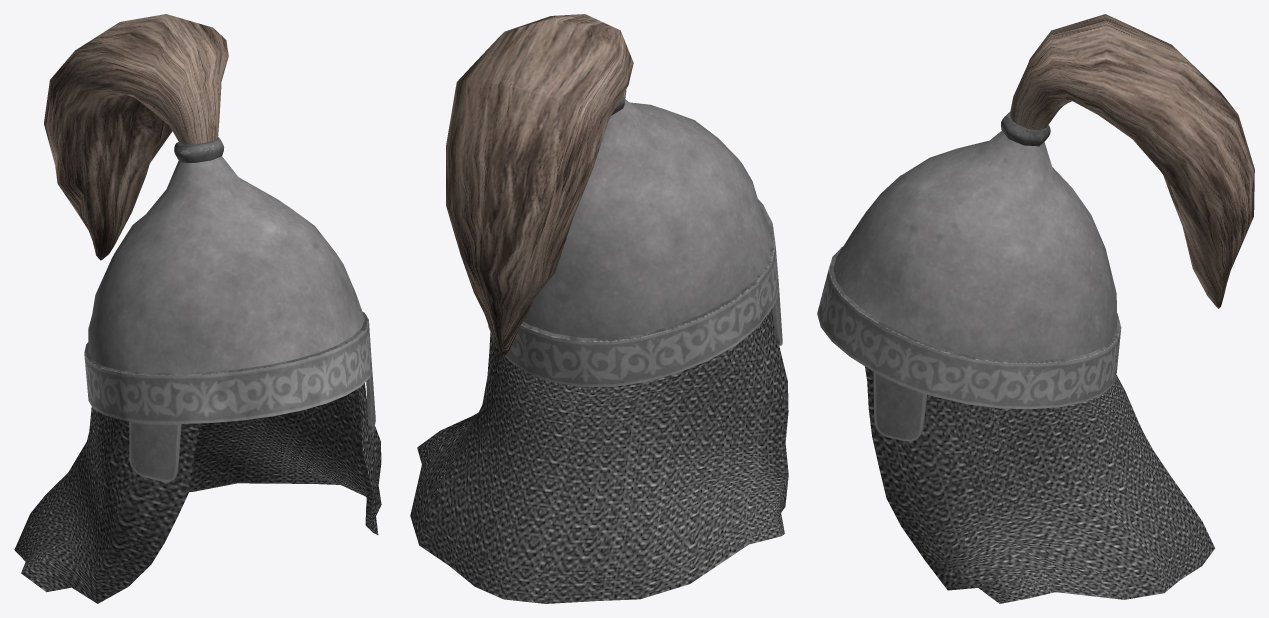
Rendered from helmet.fbx.
3 renders of one model, left to right at view 1: azimuth 30°, elevation 25°; view 2: azimuth 150°, elevation 25°; view 3: azimuth 270°, elevation 25°, orthographic. The views are drawn at different scales.
Parts seen in each view (by area): view 1: helmet; view 2: helmet; view 3: helmet.
Boxes of the visible parts, x1=… form: helmet: x1=14, y1=14, x2=381, y2=603; helmet: x1=410, y1=14, x2=788, y2=603; helmet: x1=817, y1=14, x2=1254, y2=603.
Bounding box in the file's own units: 13.91 × 19.68 × 14.87.
1 material, 1 textured.
